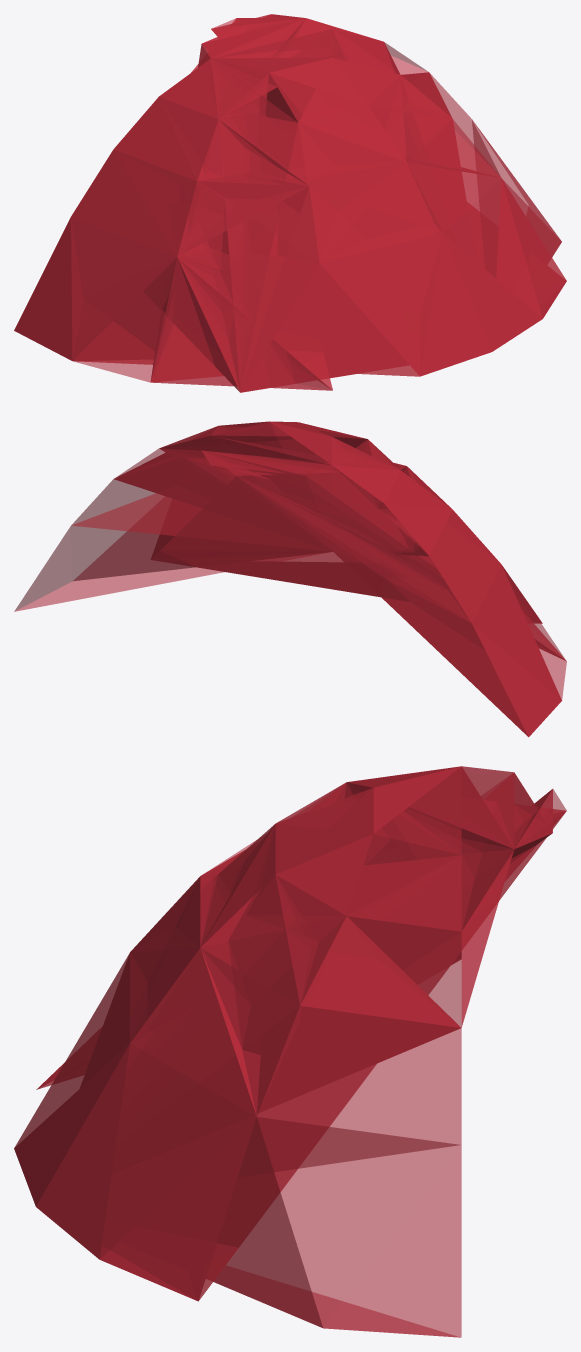
File: S.S._Dolphin_Bowsprit_3.obj
3 views of the same model, one above another, from view 1: azimuth 30°, elevation 25°; view 2: azimuth 150°, elevation 25°; view 3: azimuth 270°, elevation 25° (orthographic). The views are drawn at different scales.
Visible parts, largest first — view 1: S.S._Dolphin_Bowsprit_3; view 2: S.S._Dolphin_Bowsprit_3; view 3: S.S._Dolphin_Bowsprit_3.
Boxes of the visible parts, x1=… form: S.S._Dolphin_Bowsprit_3: x1=14, y1=14, x2=566, y2=392; S.S._Dolphin_Bowsprit_3: x1=14, y1=421, x2=566, y2=737; S.S._Dolphin_Bowsprit_3: x1=14, y1=766, x2=566, y2=1337.
Size of the model in its own units: 4.28 by 1.78 by 2.64.
